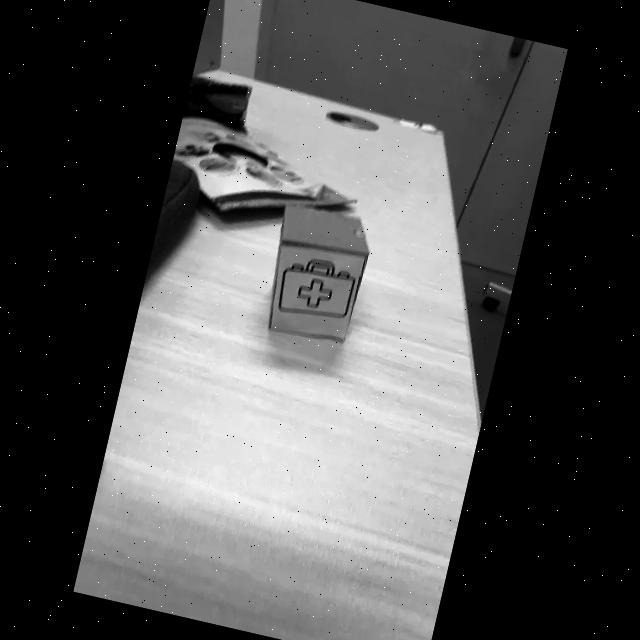Medkit: (278, 258, 355, 319)
